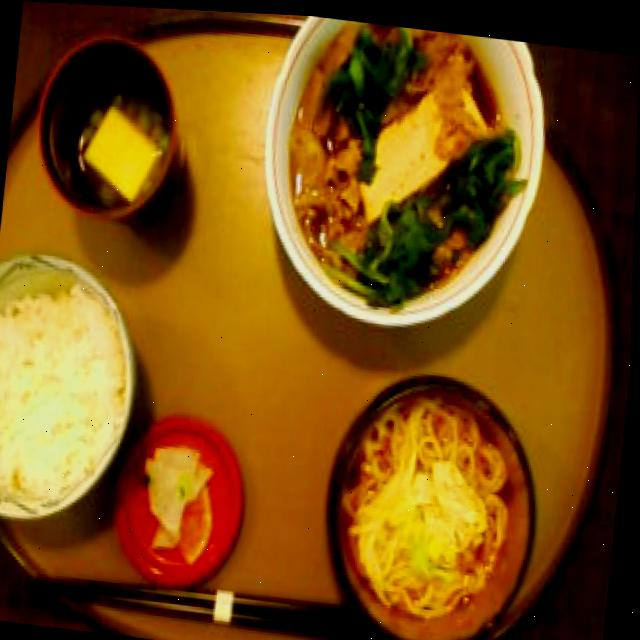米饭主食: (0, 275, 132, 518)
